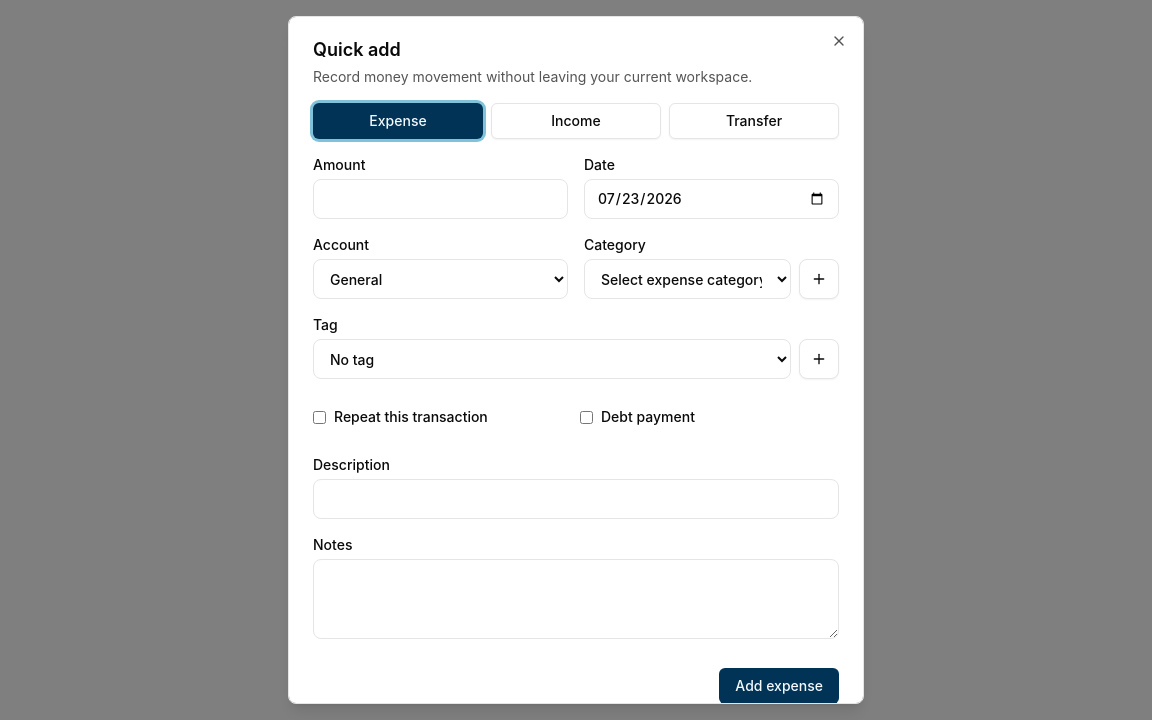
QuickAddDialog › creates and selects a category without losing the Quick Add draft
Type "12.50" into the number field labelled "Amount" at (440, 199), box [313,179,568,219]
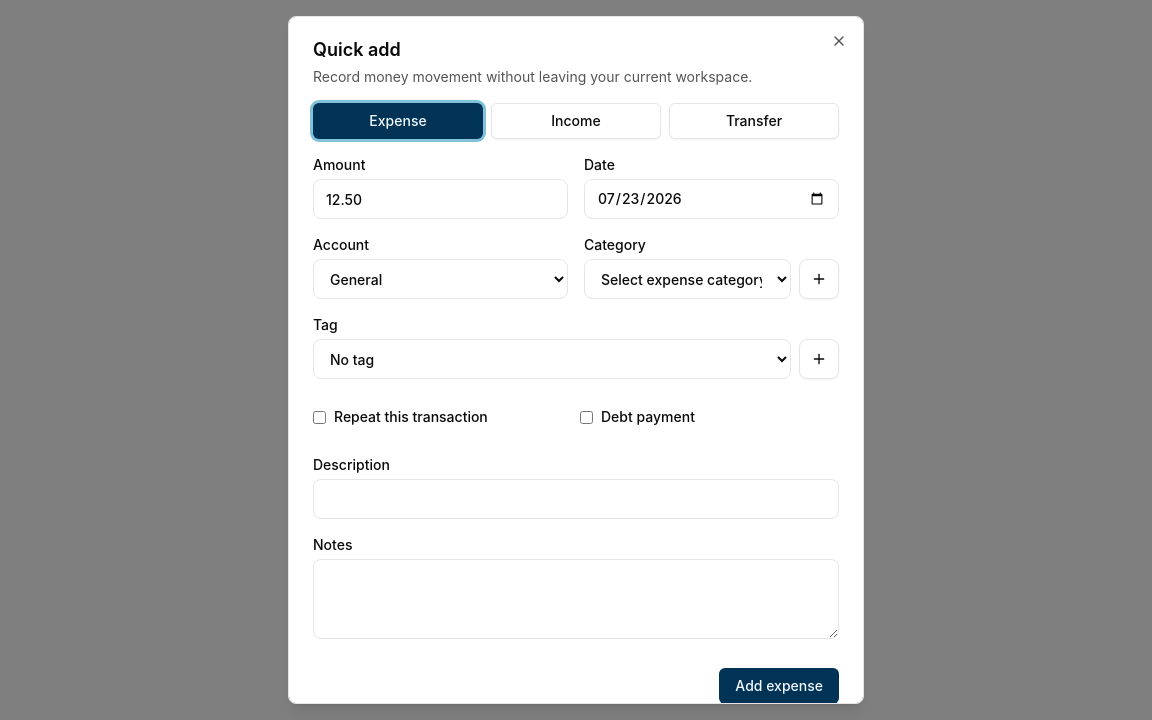
Type "Lunch" into the field labelled "Description" at (576, 499), box [313,479,839,519]
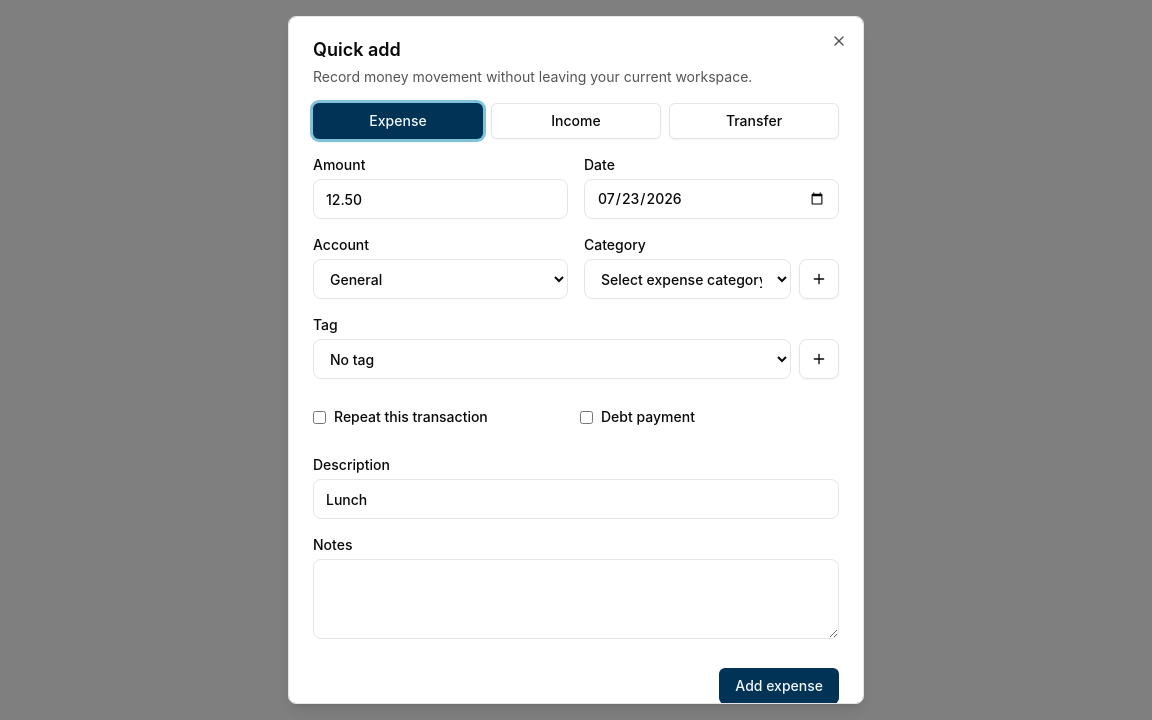
Click the button named "Add category" at (819, 279), box [799,259,839,299]
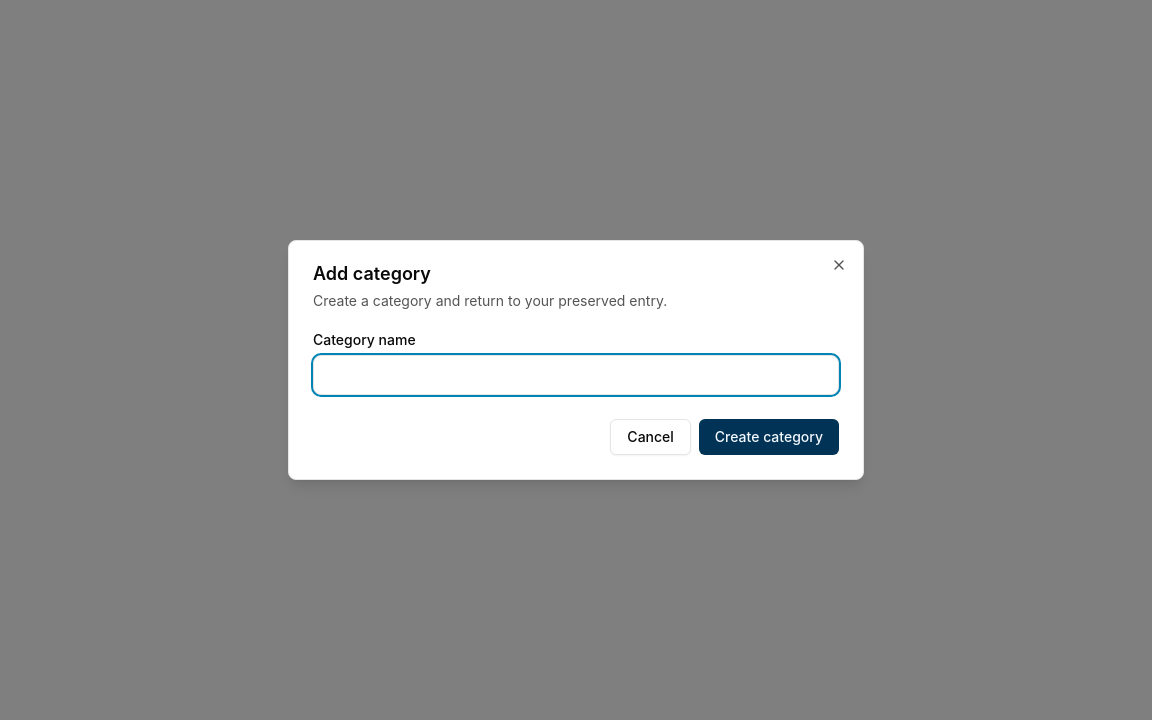
Type "Travel" into the field labelled "Category name" at (576, 375), box [313,355,839,395]
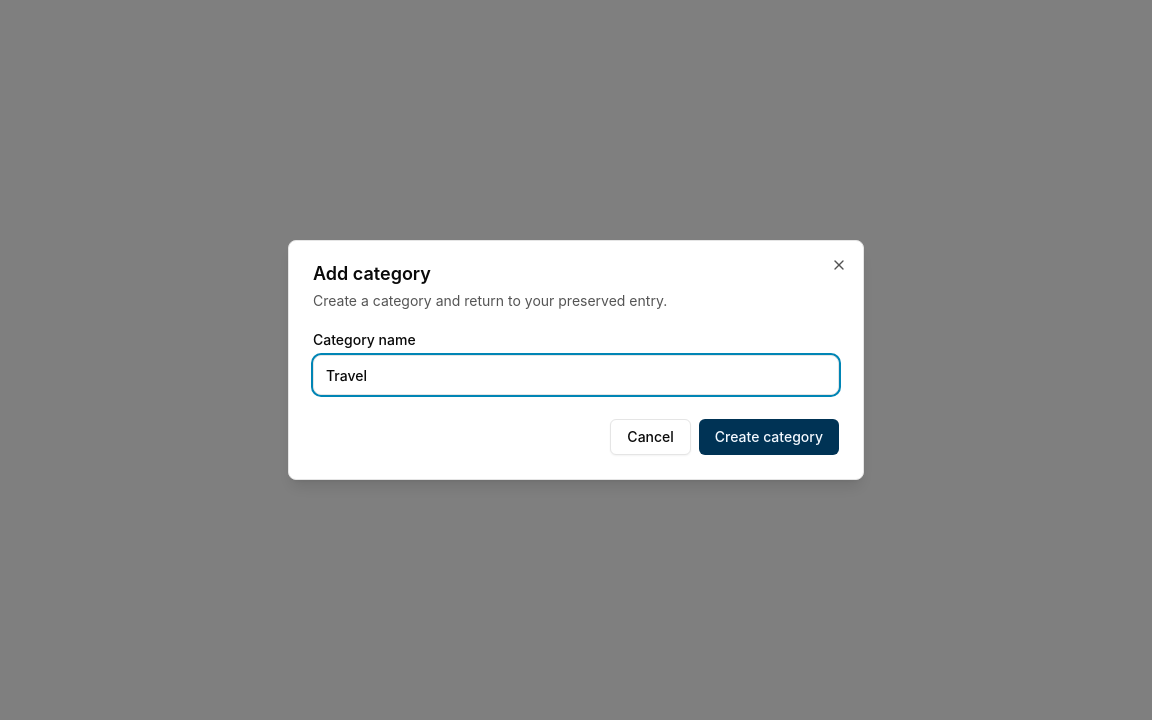
Click the button "Create category" at (769, 437), box [699,419,839,455]
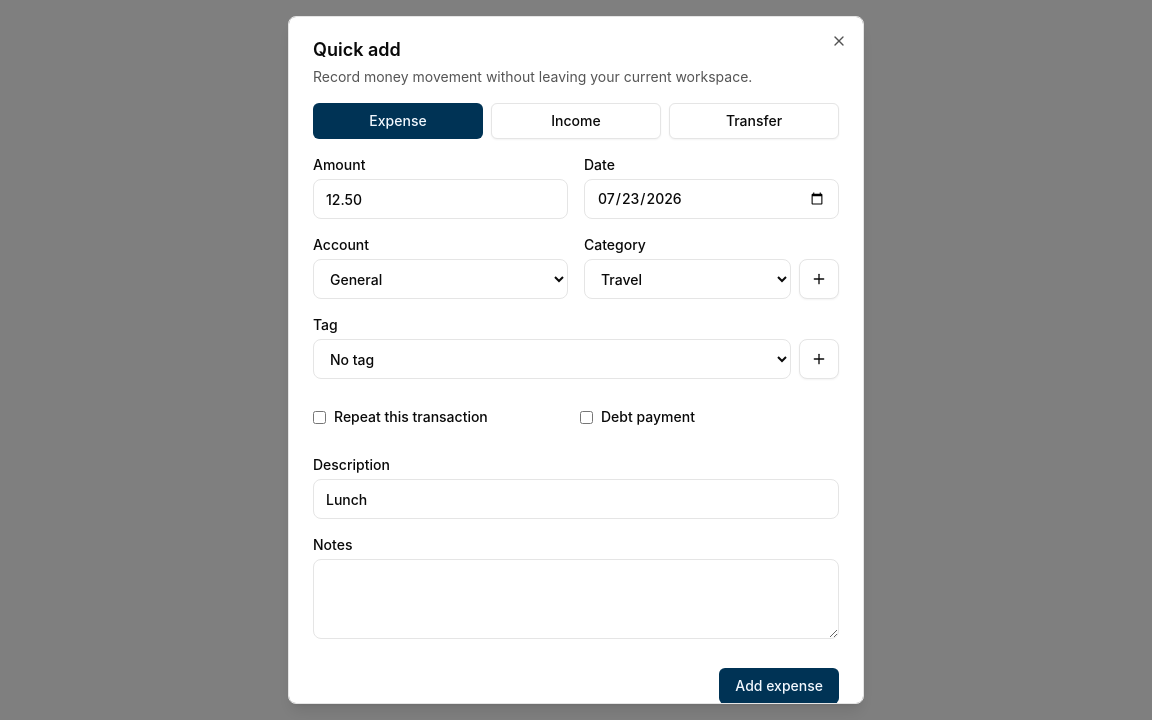
Expected: the number field labelled "Amount" holds "12.5", [313,179,568,219]
Expected: the field labelled "Description" holds "Lunch", [313,479,839,519]
Expected: the dropdown labelled "Category" shows "Travel", [584,259,791,299]
